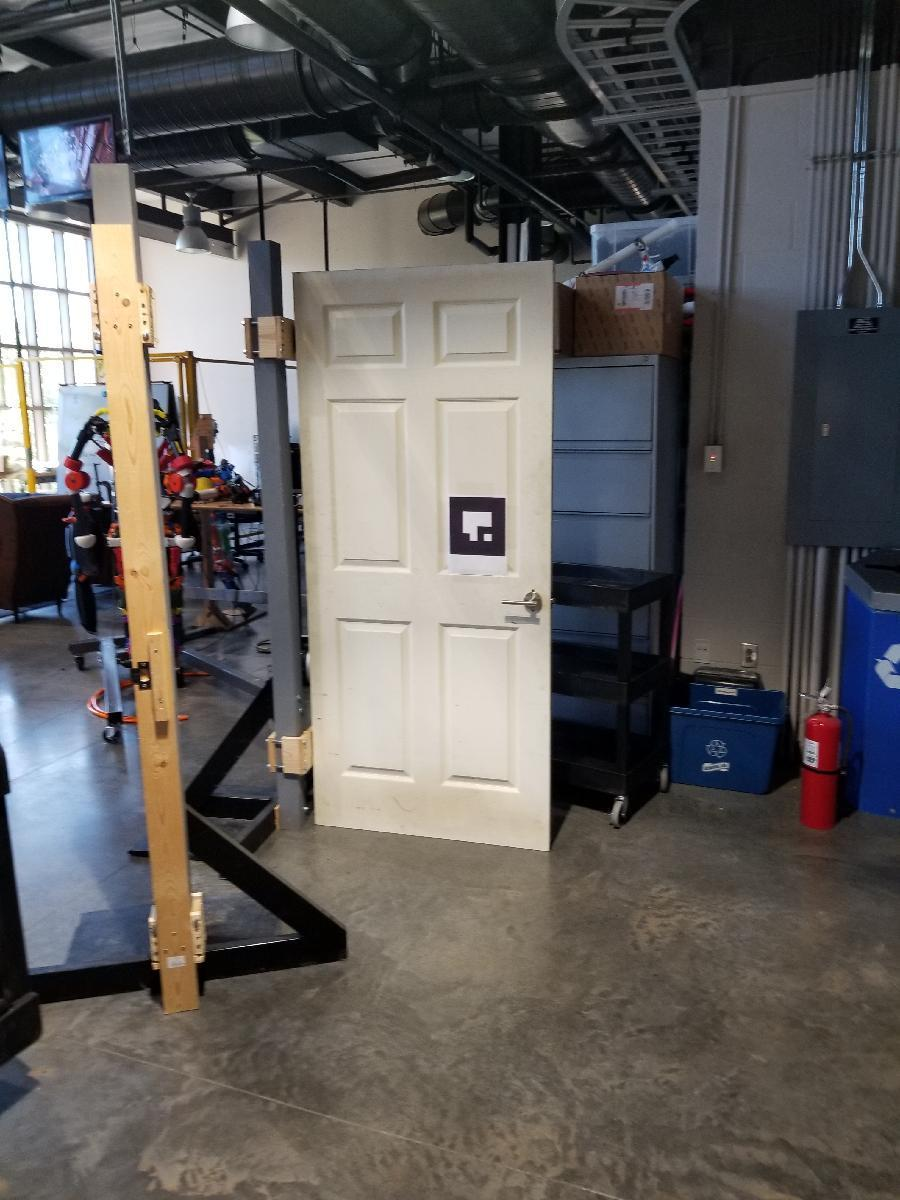door: (294, 266, 554, 844)
handle: (498, 588, 545, 614)
